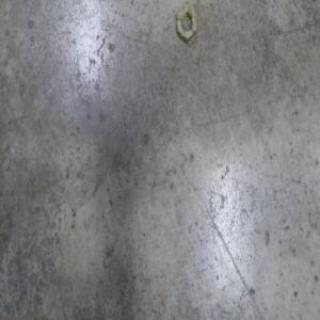Nuttrack_idkeyframe: (175, 0, 197, 43)
